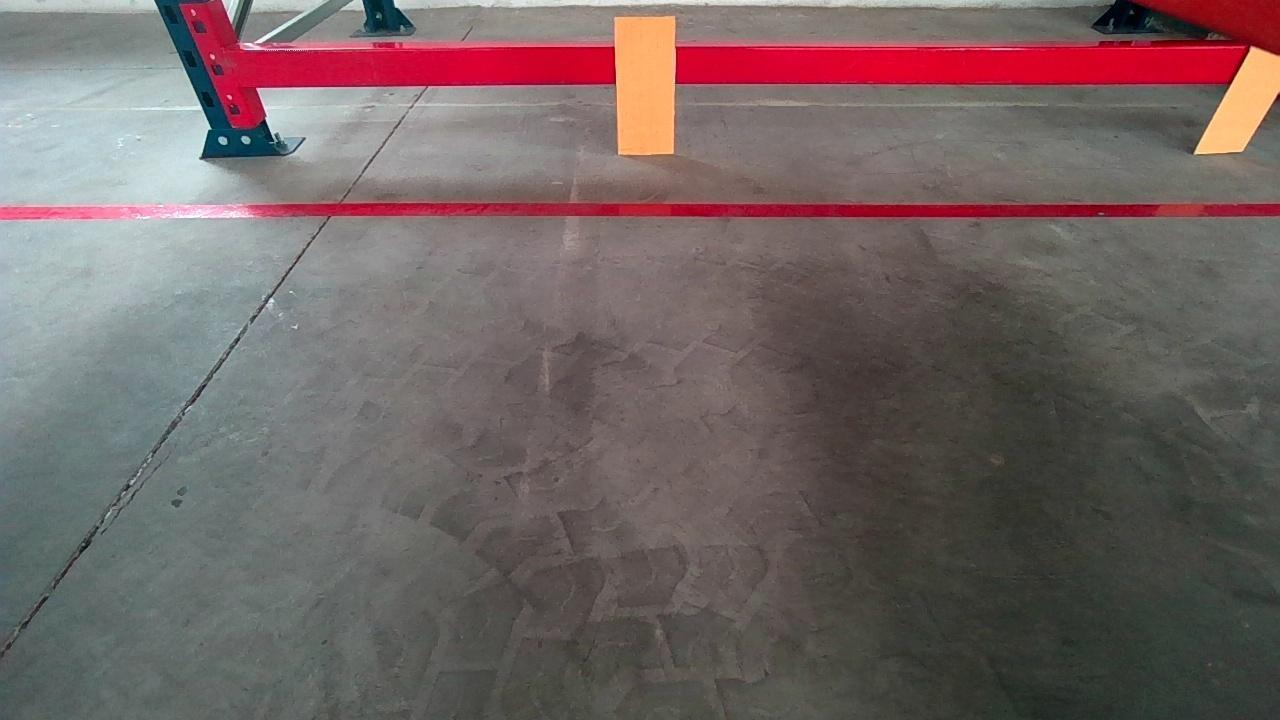h_rack: (245, 42, 1269, 90)
orange_strip: (1198, 43, 1280, 151), (615, 16, 677, 155)
red_line: (12, 195, 1272, 225)
